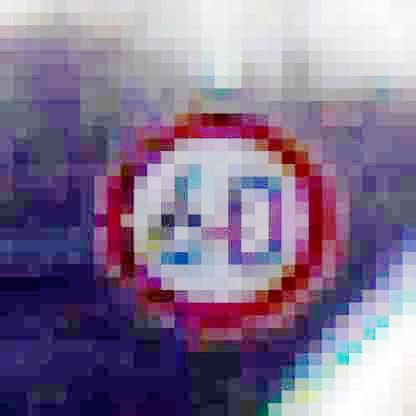Speed Limit -60-: (88, 101, 340, 332)
